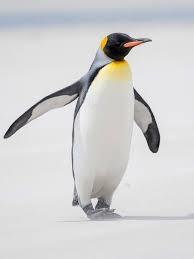king: (42, 23, 188, 231)
